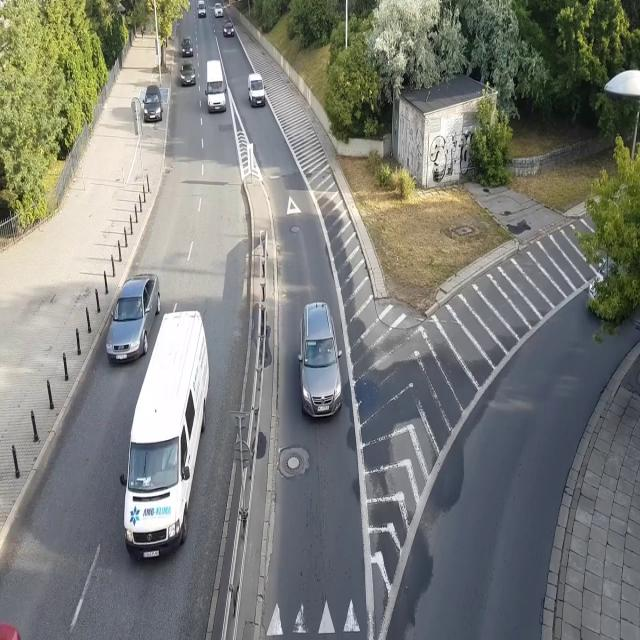car: (298, 302, 343, 422), (106, 272, 161, 364), (142, 85, 163, 121), (179, 59, 196, 87), (180, 36, 193, 58), (222, 20, 234, 38), (214, 2, 224, 18)
van: (120, 310, 210, 560), (205, 60, 227, 114), (248, 73, 266, 108), (197, 0, 206, 18)
